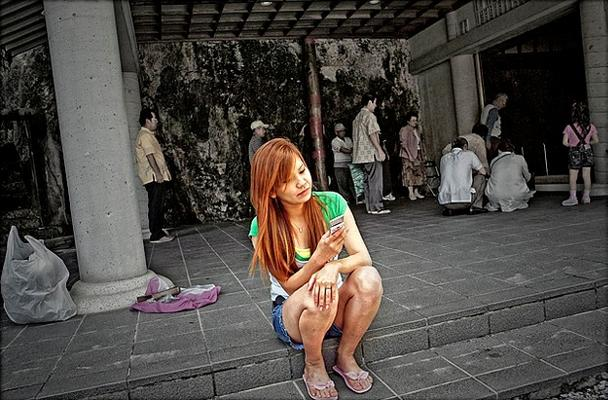person: (249, 138, 383, 400)
